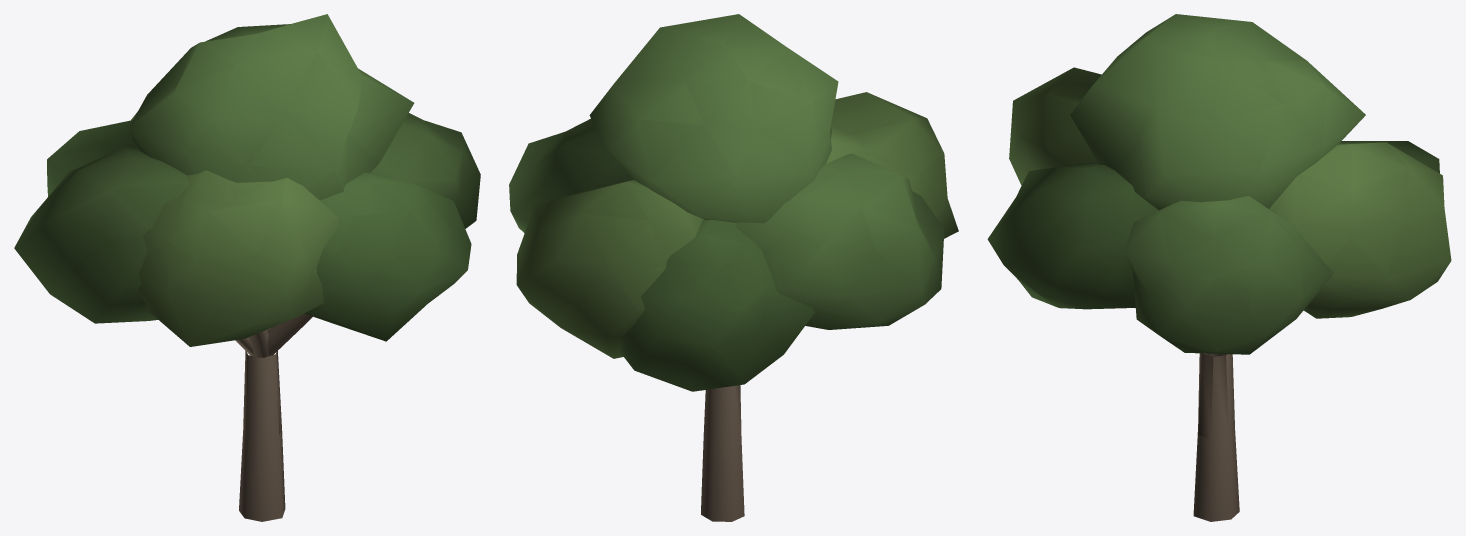
File: chene_lod0.glb
The picture shows the model from 3 angles, left to right: view 1: azimuth 30°, elevation 25°; view 2: azimuth 150°, elevation 25°; view 3: azimuth 270°, elevation 25°; orthographic projection. The views are drawn at different scales.
Visible parts, largest first — view 1: chene_lod0; view 2: chene_lod0; view 3: chene_lod0.
Part boxes in pixels (x1,y1,x2,y2): chene_lod0: (14,14,480,521); chene_lod0: (509,14,958,521); chene_lod0: (987,14,1451,521).
Bounding box in the file's own units: 13.08 × 14.02 × 12.19.
